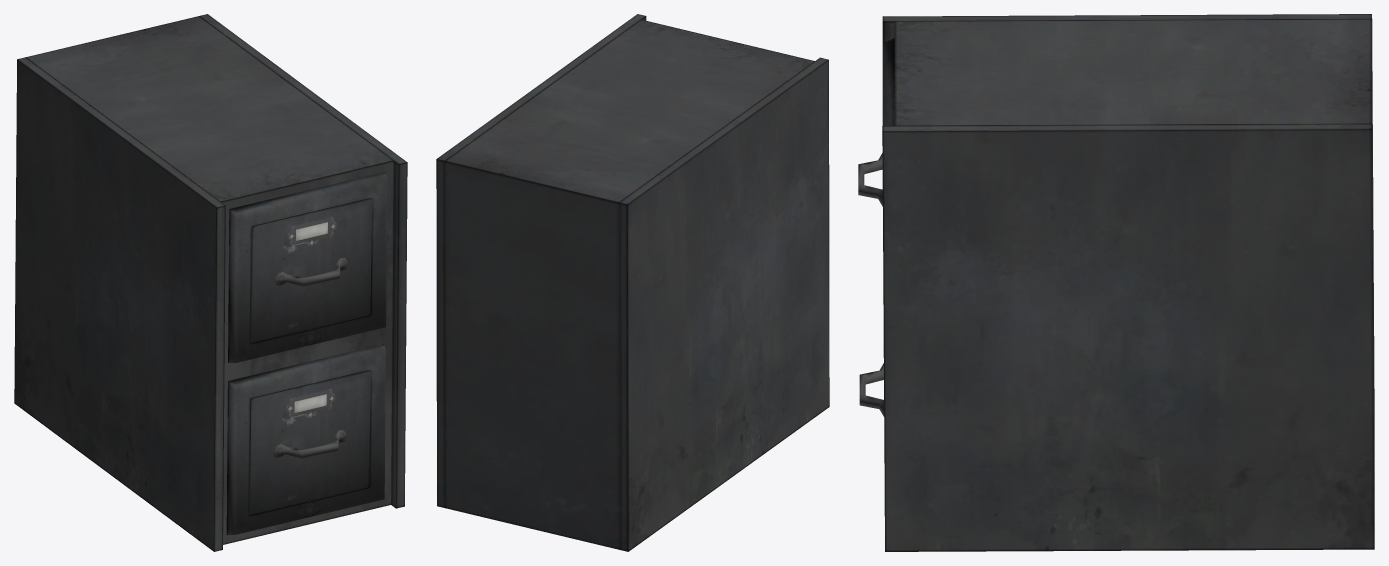
The model's file is card files.obj.
The picture shows the model from 3 angles, left to right: view 1: azimuth 30°, elevation 25°; view 2: azimuth 150°, elevation 25°; view 3: azimuth 270°, elevation 25°; orthographic projection. The views are drawn at different scales.
Visible parts, largest first — view 1: Mesh_0192.rip; view 2: Mesh_0192.rip; view 3: Mesh_0192.rip.
Boxes of the visible parts, x1,y1,x2,y2 form: Mesh_0192.rip: [14, 14, 407, 551]; Mesh_0192.rip: [436, 14, 829, 551]; Mesh_0192.rip: [858, 14, 1374, 551].
Size of the model in its own units: 22.21 by 38.33 by 42.2.
Materials: 1 (1 with a texture image).
